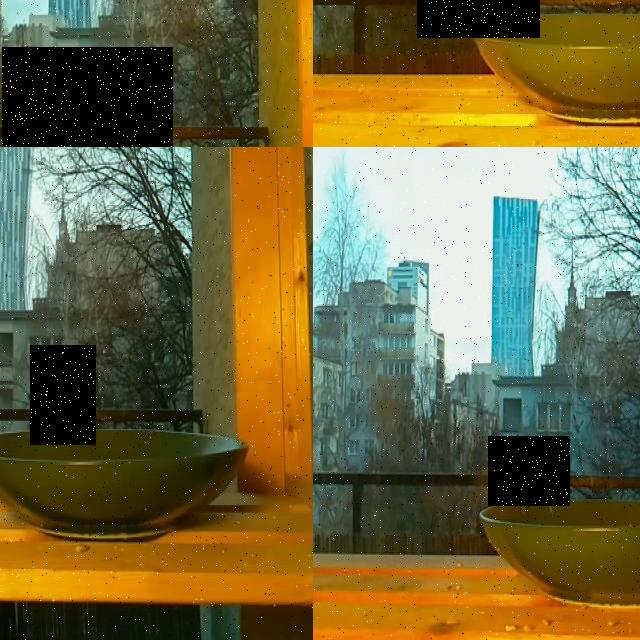Bogatka: (2, 47, 173, 147)
Modraszka: (30, 345, 96, 445), (488, 436, 570, 506), (417, 0, 540, 37)
